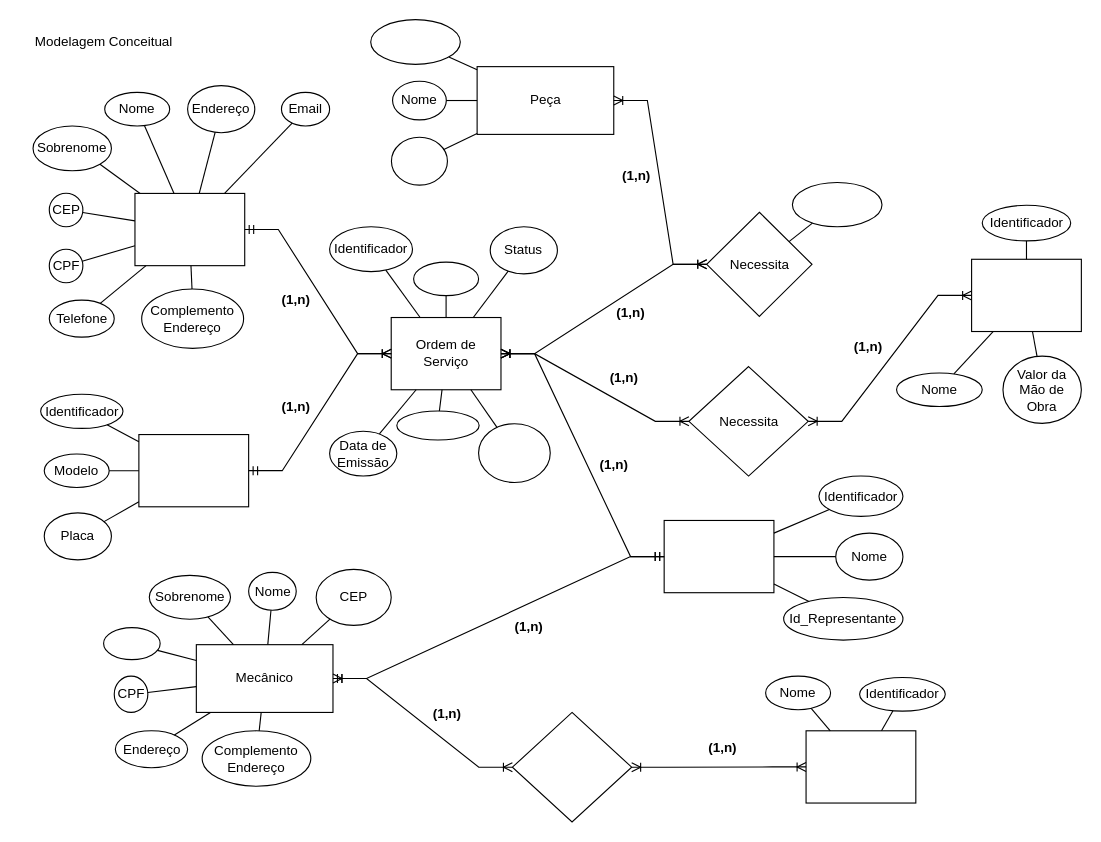
Image size: 1101x842. Some labels were removed from this diagram. Each missing label, with the centre of its shape:
"Autorização" goes at point 437,425.
"Carro" goes at point 193,470.
"Cliente" goes at point 189,229.
"Código" goes at point 131,643.
"Data de Conclusão" goes at point 513,452.
"Equipe" goes at point 718,556.
"Especialidade" goes at point 860,766.
"Identificação" goes at point 415,41.
"Possui" goes at point 571,766.
"Quantidade de Peças" goes at point 836,204.
"Serviço" goes at point 1025,295.
"Valor" goes at point 445,278.
"Valor Unitário" goes at point 418,160.
